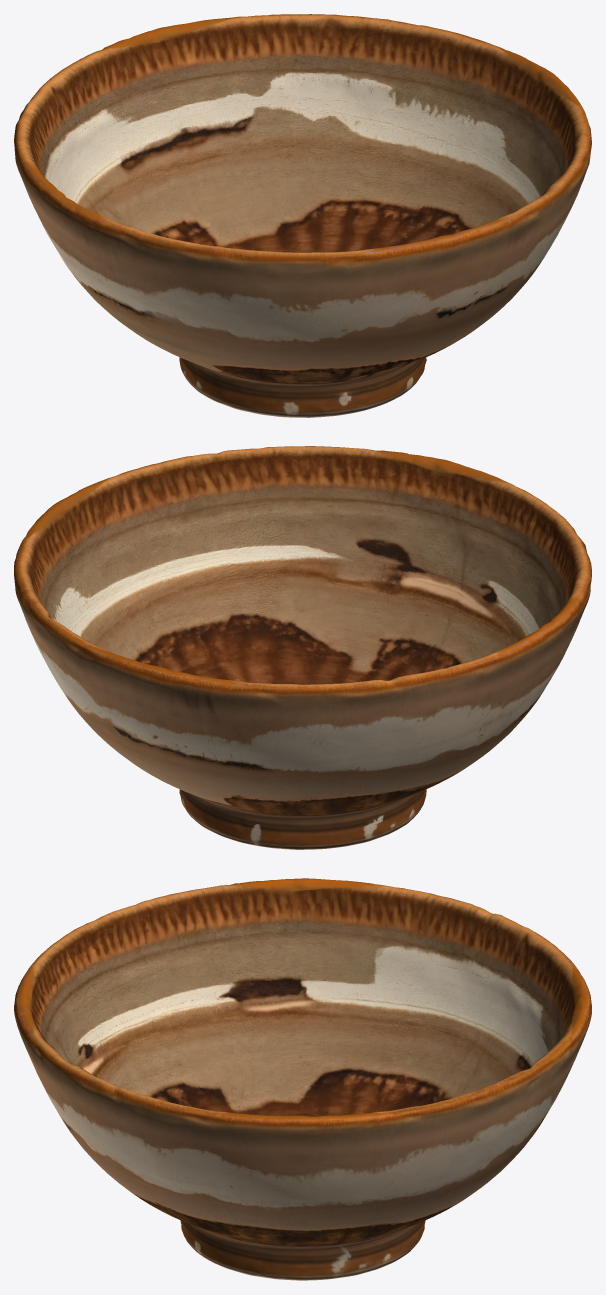
The model's file is cousin_5.glb.
3 renders of one model, top to bottom at view 1: azimuth 30°, elevation 25°; view 2: azimuth 150°, elevation 25°; view 3: azimuth 270°, elevation 25°, orthographic.
Size of the model in its own units: 1.91 by 0.8562 by 1.91.
1 material, 1 textured.
